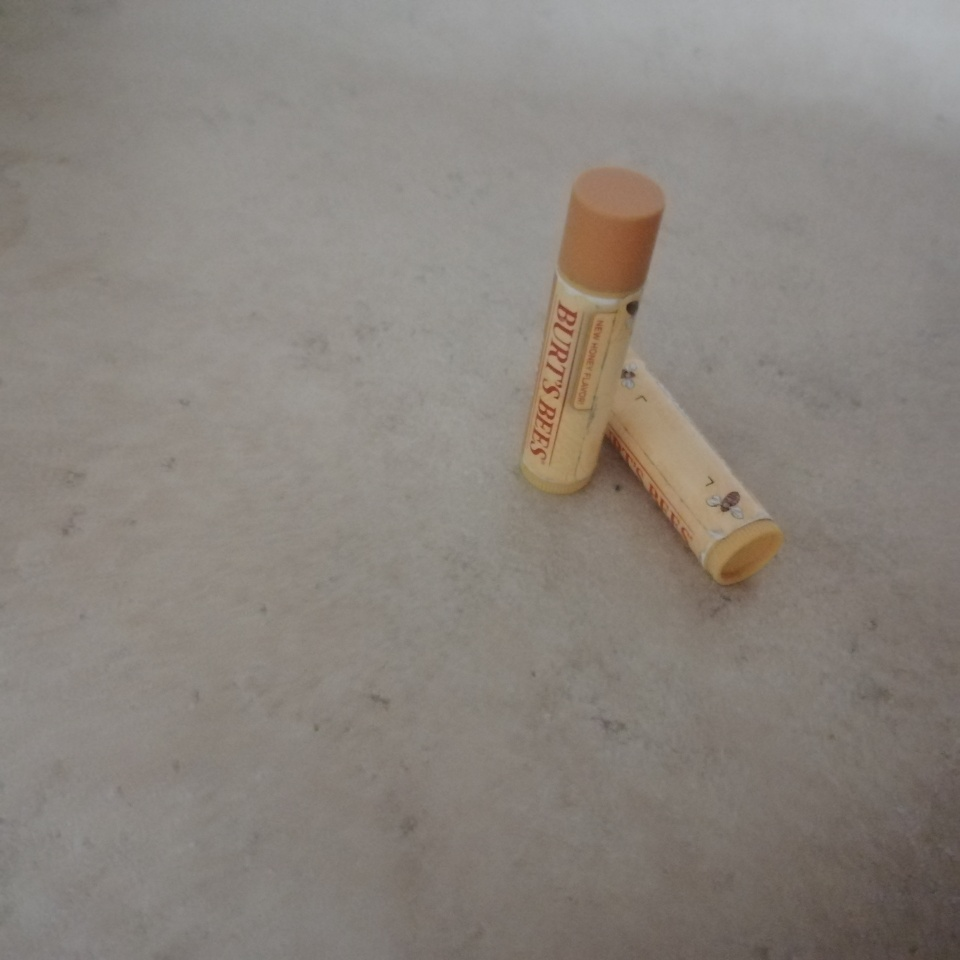chapstick: (520, 166, 665, 496), (605, 340, 781, 588)
